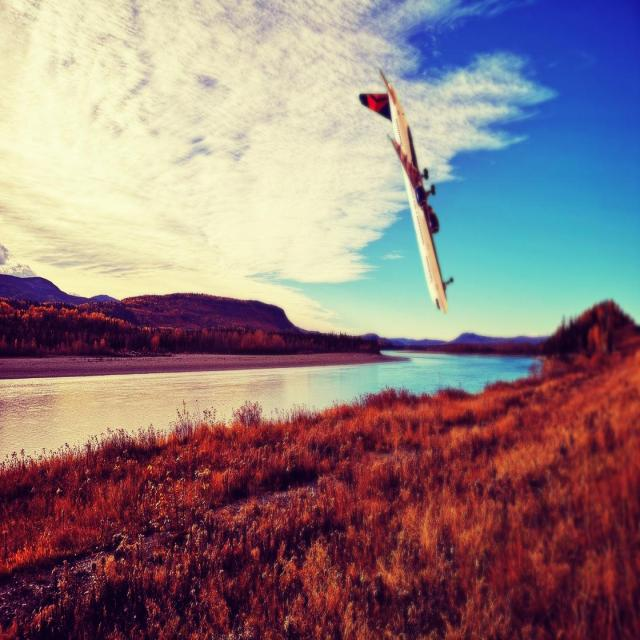airplane: (358, 68, 454, 314)
